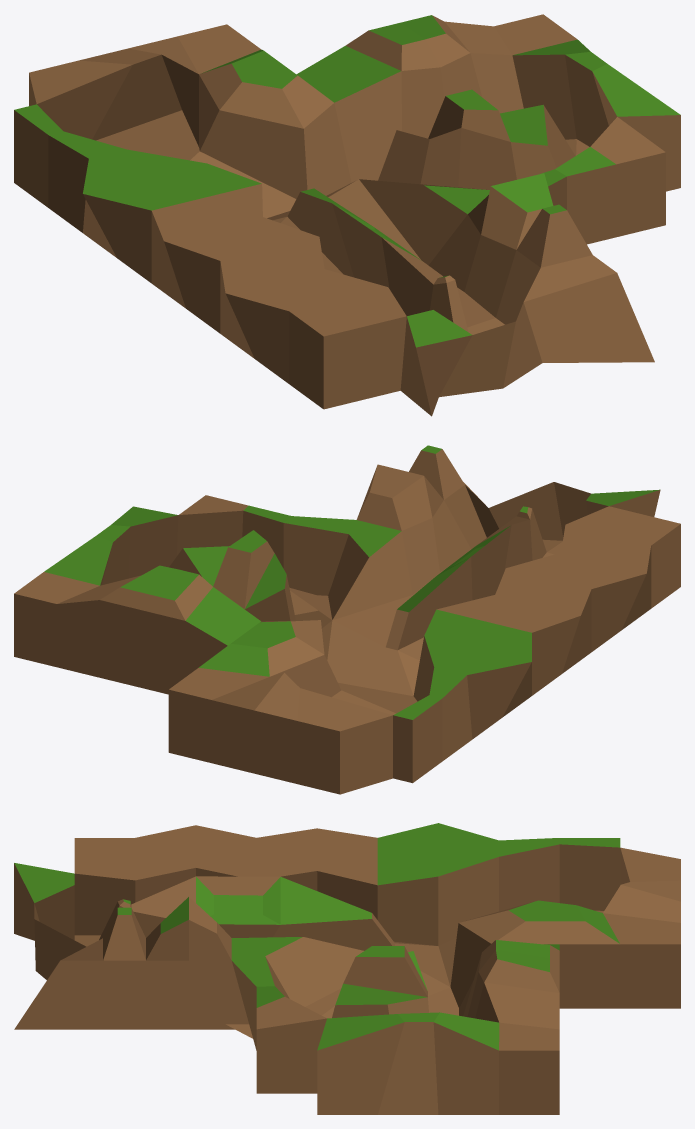
The model's file is Map2.3.fbx.
3 renders of one model, top to bottom at view 1: azimuth 30°, elevation 25°; view 2: azimuth 150°, elevation 25°; view 3: azimuth 270°, elevation 25°, orthographic. The views are drawn at different scales.
Visible parts, largest first — view 1: Plane; view 2: Plane; view 3: Plane.
Boxes of the visible parts, x1,y1,x2,y2 form: Plane: (14,14,680,416); Plane: (14,445,680,794); Plane: (14,823,680,1114).
Bounding box in the file's own units: 3529 × 2849 × 621.
